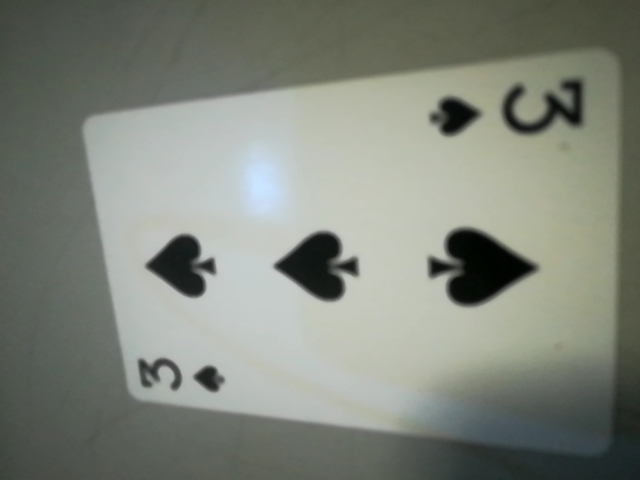ht 3: (411, 70, 598, 147)
